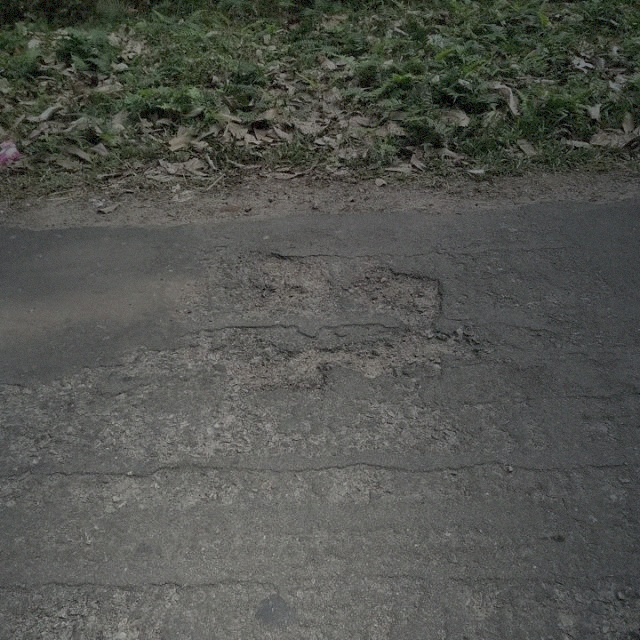pothole: (208, 247, 486, 396)
